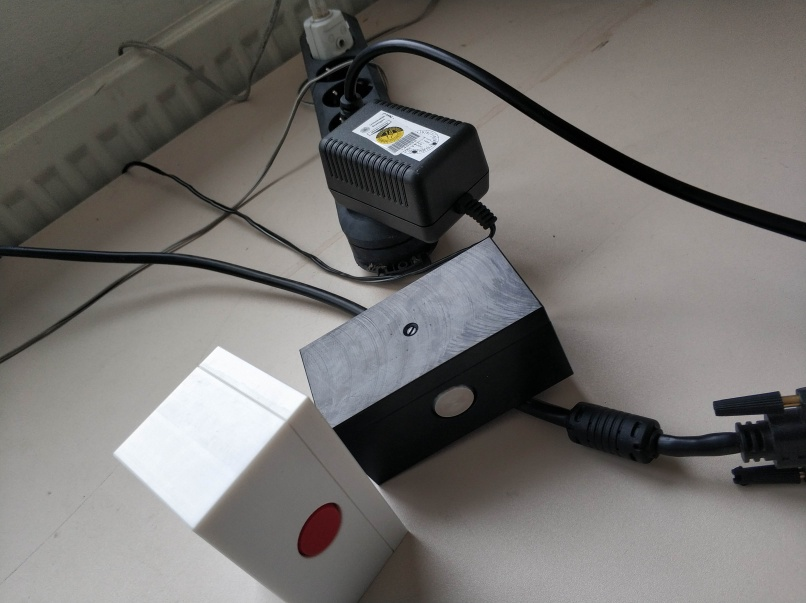black+black+silver: (296, 236, 577, 489)
white+white+red: (111, 343, 414, 603)
